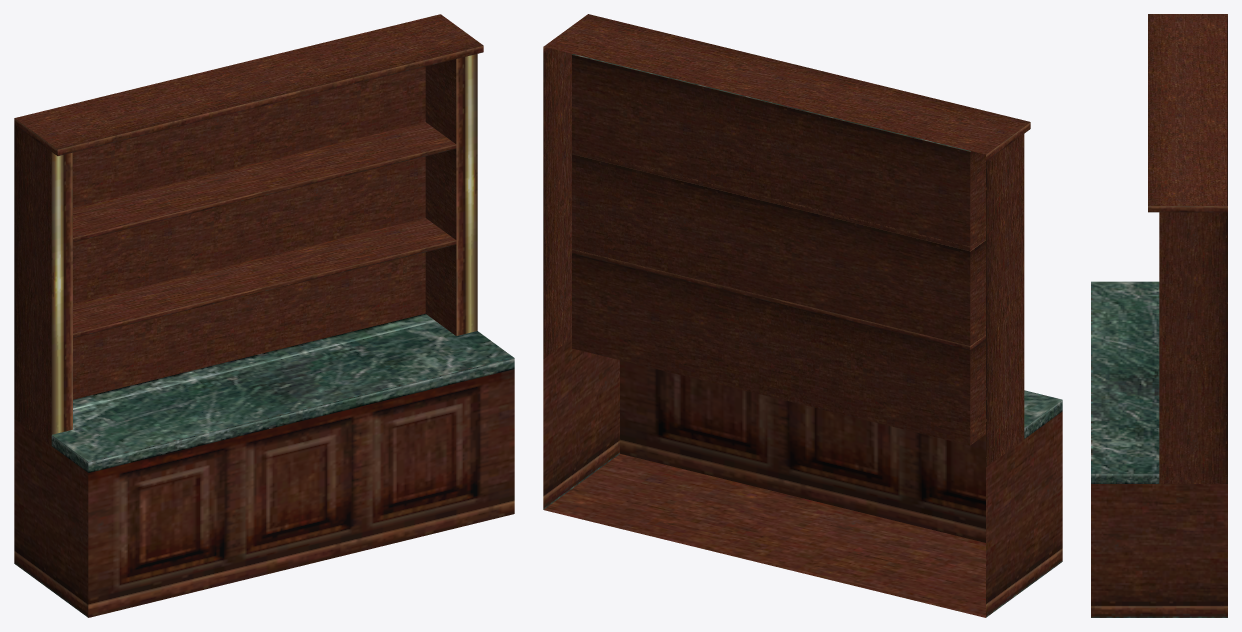
The model's file is bar_back.fbx.
3 renders of one model, left to right at view 1: azimuth 30°, elevation 25°; view 2: azimuth 150°, elevation 25°; view 3: azimuth 270°, elevation 25°, orthographic. The views are drawn at different scales.
Parts seen in each view (by area): view 1: mesh_1, mesh_0, mesh_2; view 2: mesh_1, mesh_0, mesh_2; view 3: mesh_1.
Part boxes in pixels (x1,y1,x2,y2): mesh_1: [14, 14, 514, 617]; mesh_0: [73, 218, 456, 338]; mesh_2: [73, 122, 456, 242]; mesh_1: [543, 14, 1062, 617]; mesh_0: [572, 249, 985, 350]; mesh_2: [572, 153, 983, 250]; mesh_1: [1091, 14, 1227, 617].
Size of the model in its own units: 200 by 200 by 60.16.
Materials: 1 (1 with a texture image).
